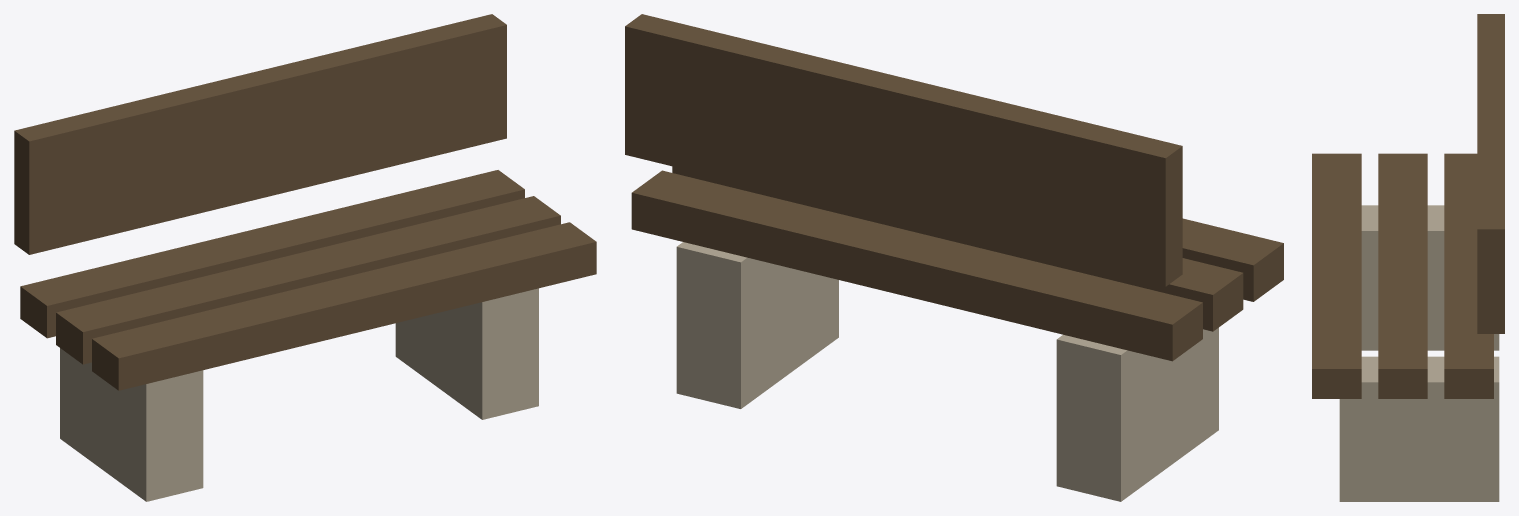
File: bench.glb
3 views of the same model, side by side, from view 1: azimuth 30°, elevation 25°; view 2: azimuth 150°, elevation 25°; view 3: azimuth 270°, elevation 25° (orthographic). The views are drawn at different scales.
Visible parts, largest first — view 1: oak seat slat, bench stone leg; view 2: oak seat slat, bench stone leg; view 3: oak seat slat, bench stone leg.
Part boxes in pixels (x1,y1,x2,y2): oak seat slat: [14, 14, 596, 390]; bench stone leg: [60, 288, 538, 501]; oak seat slat: [625, 14, 1283, 361]; bench stone leg: [676, 242, 1218, 501]; oak seat slat: [1312, 14, 1504, 398]; bench stone leg: [1339, 205, 1499, 501].
Bounding box in the file's own units: 1.85 × 1.17 × 0.7.
